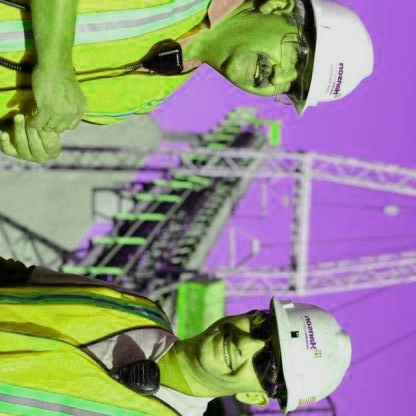vest: (1, 2, 227, 134), (4, 276, 183, 413)
white: (265, 286, 355, 412), (294, 1, 378, 120)
